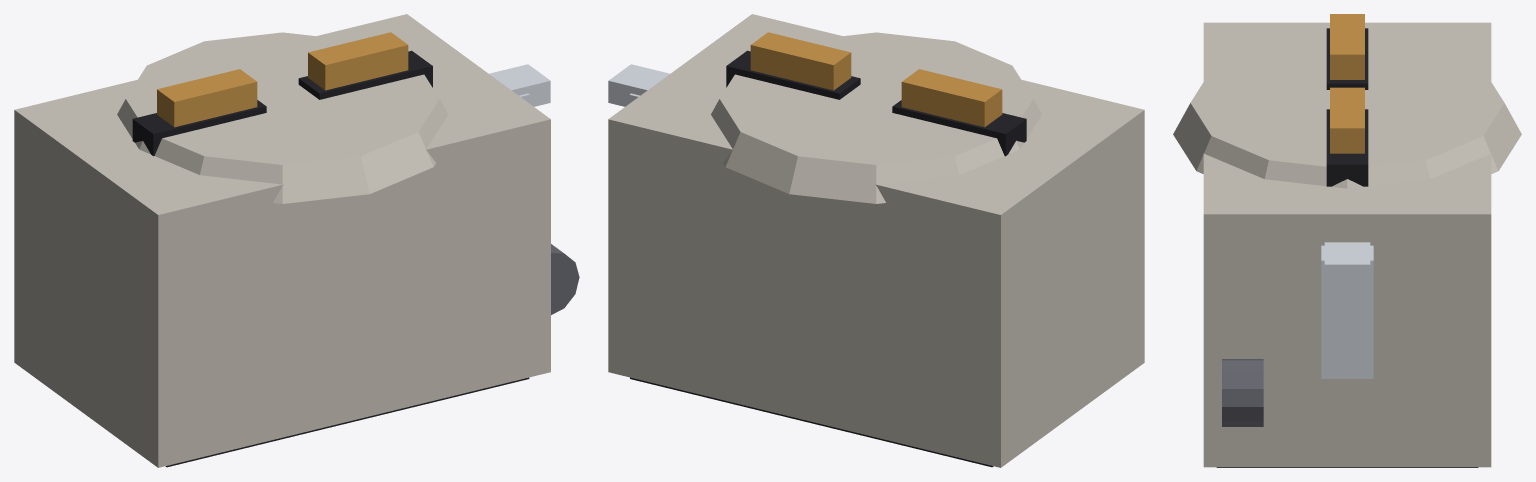
The model's file is toaster.glb.
The picture shows the model from 3 angles, left to right: view 1: azimuth 30°, elevation 25°; view 2: azimuth 150°, elevation 25°; view 3: azimuth 270°, elevation 25°; orthographic projection.
Parts seen in each view (by area): view 1: toaster; view 2: toaster; view 3: toaster.
Boxes of the visible parts, x1,y1,x2,y2 form: toaster: (14, 14, 579, 467); toaster: (608, 14, 1144, 467); toaster: (1173, 14, 1521, 467).
Bounding box in the file's own units: 0.3 × 0.195 × 0.2.
